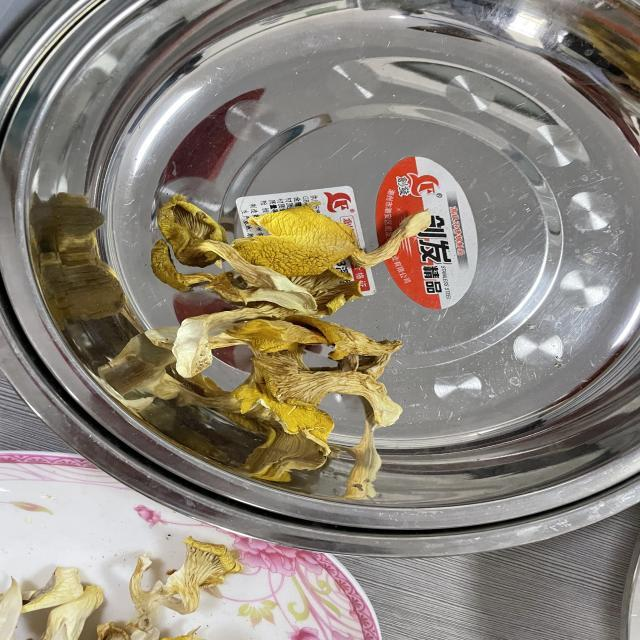Pleurotus citrinopileatus: (260, 157, 640, 373)
